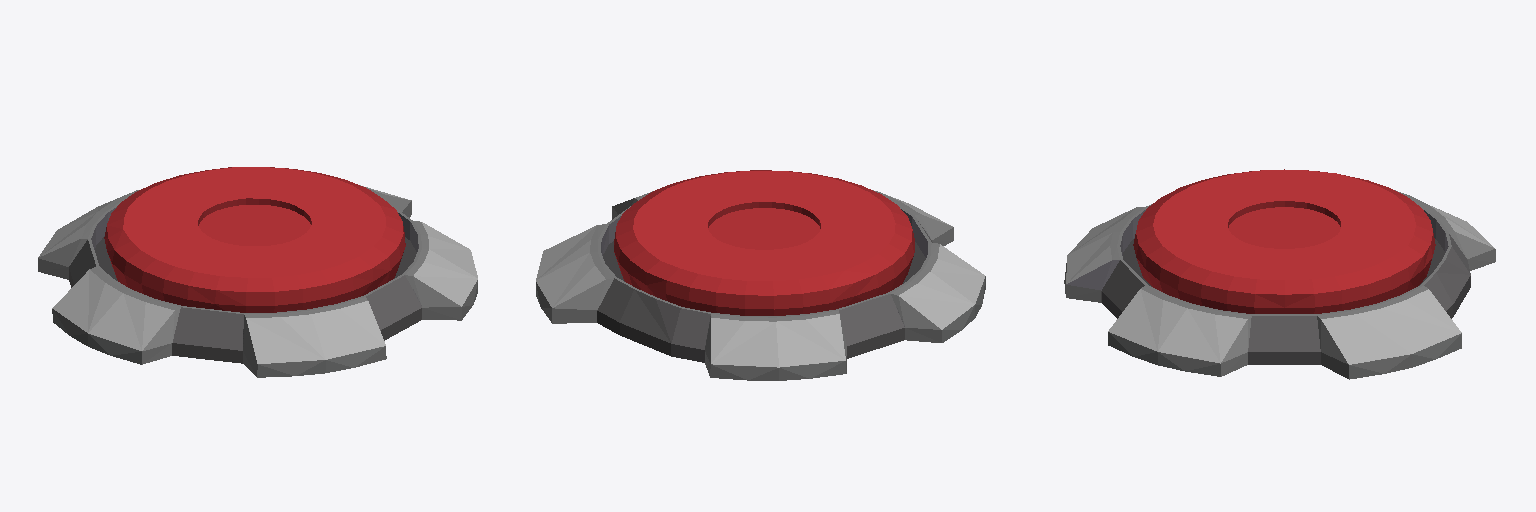
3 views of the same model, side by side, from view 1: azimuth 30°, elevation 25°; view 2: azimuth 150°, elevation 25°; view 3: azimuth 270°, elevation 25° (orthographic).
Parts seen in each view (by area): view 1: ButtonMaterial; view 2: ButtonMaterial; view 3: ButtonMaterial.
Boxes of the visible parts, <box> form: ButtonMaterial: <box>38,167,477,377</box>; ButtonMaterial: <box>536,170,985,380</box>; ButtonMaterial: <box>1064,169,1495,379</box>.
Bounding box in the file's own units: 1.8 × 0.2852 × 1.77.
1 materials, 1 textured.